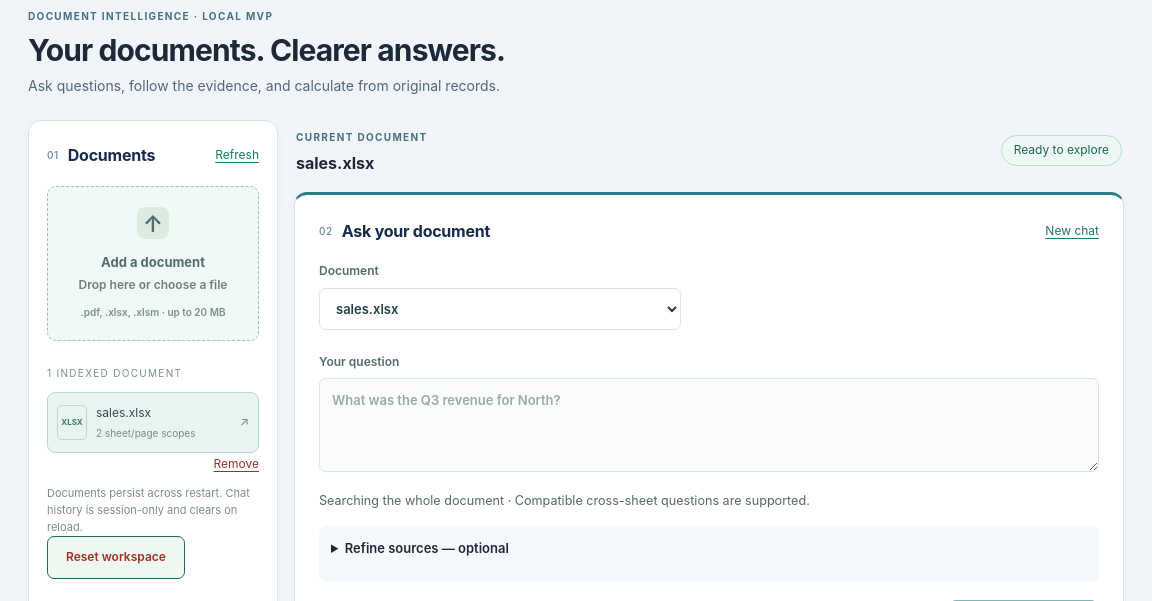
clarification resubmits a source choice without inventing a numeric answer
Type "What was the Q3 revenue?" into the text box labelled "Your question". click: (709, 425)
box: top-left (319, 378), bottom-right (1099, 472)
(page scrolled)
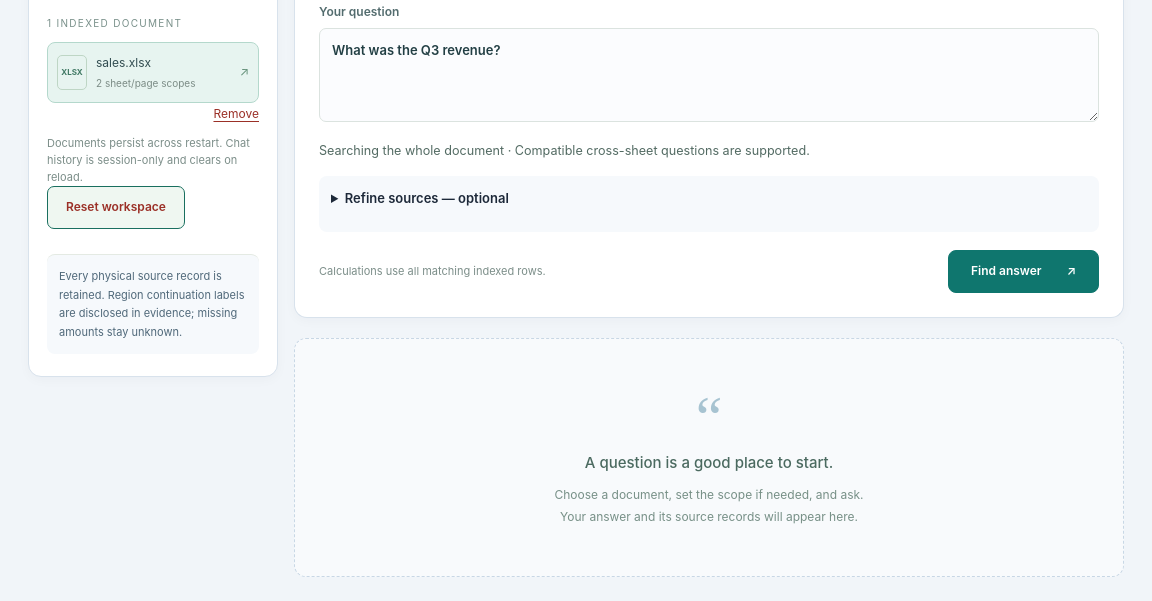
Click the button "Find answer ↗". click: click(1024, 272)
box: top-left (948, 250), bottom-right (1099, 293)
(page scrolled)
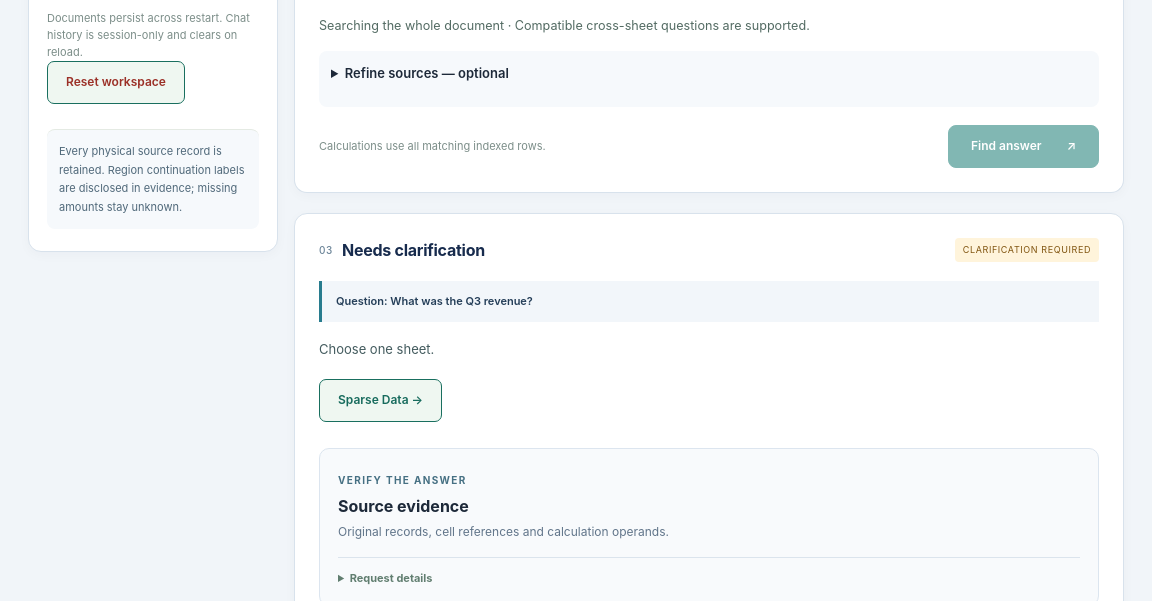
Result: the text "Choose one sheet." is shown at top-left (319, 341), bottom-right (434, 357)
Click the button "Sparse Data →". click: click(380, 400)
box: top-left (319, 379), bottom-right (442, 422)
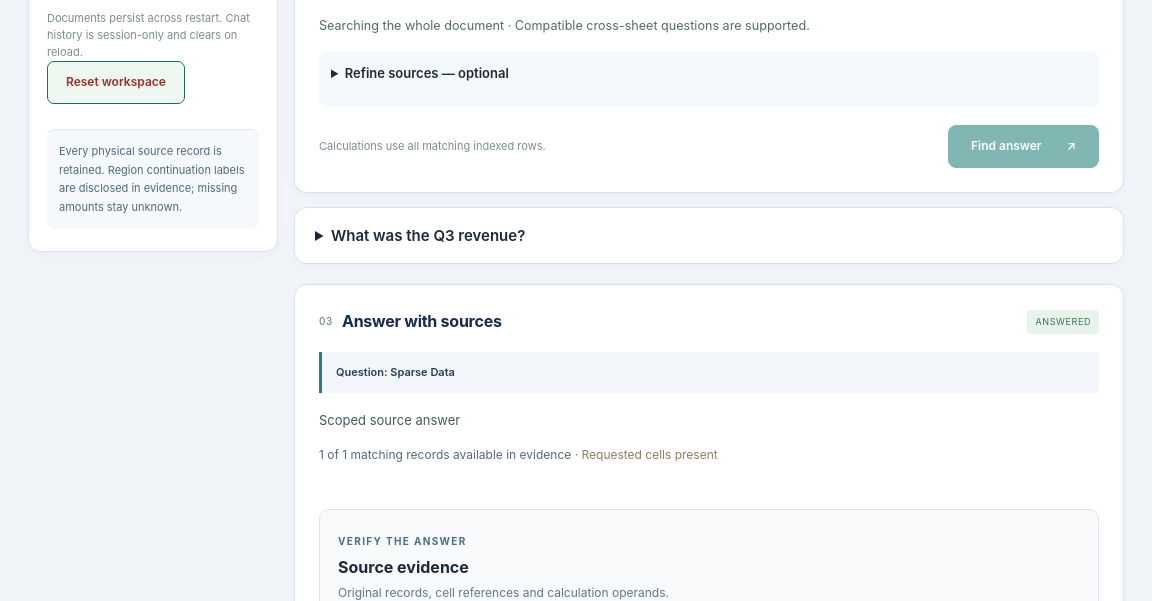
Result: the text "Scoped source answer" is shown at top-left (319, 412), bottom-right (460, 428)
